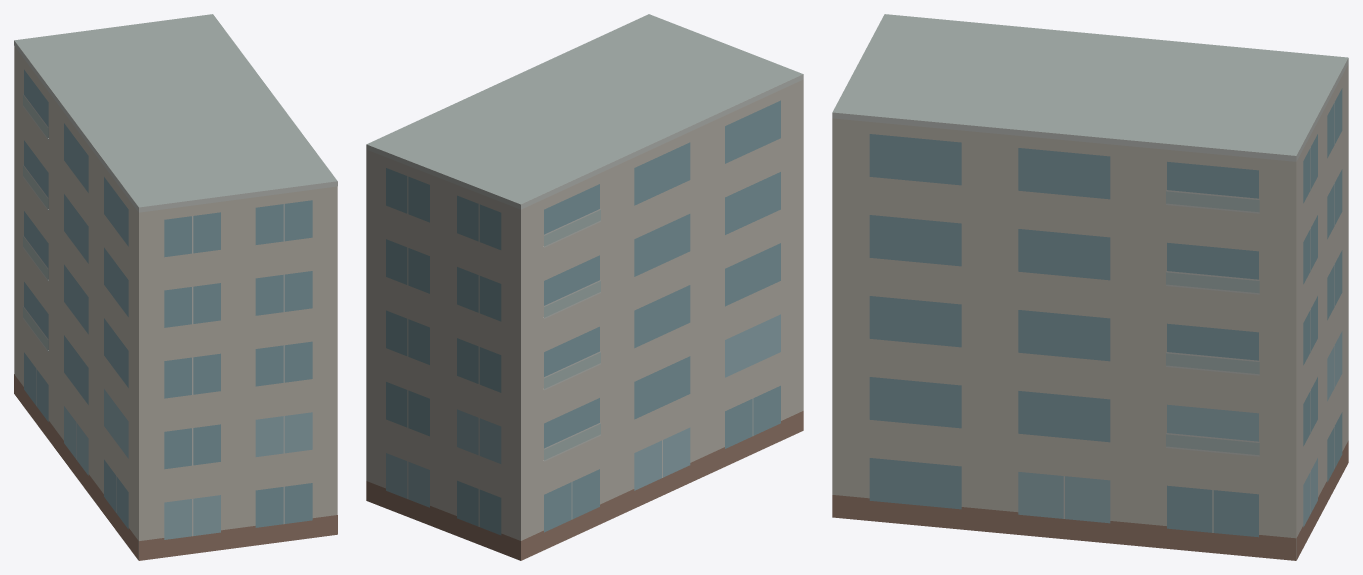
File: survey-upis-32537877.glb
3 renders of one model, left to right at view 1: azimuth 30°, elevation 25°; view 2: azimuth 150°, elevation 25°; view 3: azimuth 270°, elevation 25°, orthographic. The views are drawn at different scales.
Visible parts, largest first — view 1: survey-upis-32537877.tmp; view 2: survey-upis-32537877.tmp; view 3: survey-upis-32537877.tmp.
Part boxes in pixels (x1,y1,x2,y2): survey-upis-32537877.tmp: (14, 14, 337, 560); survey-upis-32537877.tmp: (366, 14, 803, 560); survey-upis-32537877.tmp: (832, 14, 1348, 560).
Bounding box in the file's own units: 12.56 × 16.7 × 19.31.
